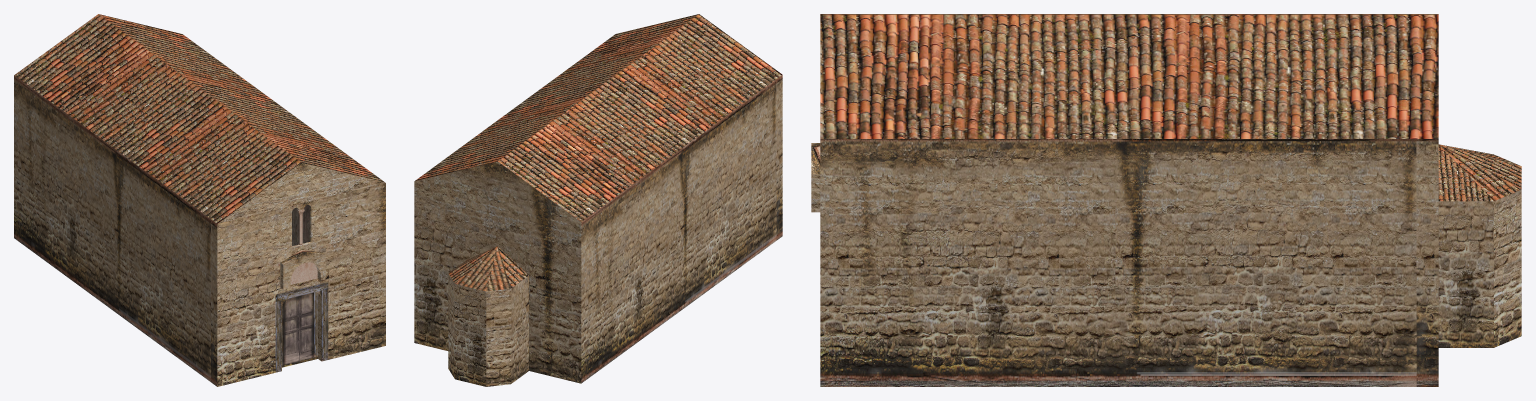
The model's file is soteira.fbx.
The picture shows the model from 3 angles, left to right: view 1: azimuth 30°, elevation 25°; view 2: azimuth 150°, elevation 25°; view 3: azimuth 270°, elevation 25°; orthographic projection. The views are drawn at different scales.
Visible parts, largest first — view 1: Group1; view 2: Group1; view 3: Group1.
Part boxes in pixels (bbox=[...]): Group1: bbox=[14, 14, 385, 386]; Group1: bbox=[414, 14, 782, 386]; Group1: bbox=[811, 14, 1521, 386].
Size of the model in its own units: 6531 by 7544 by 15680.
